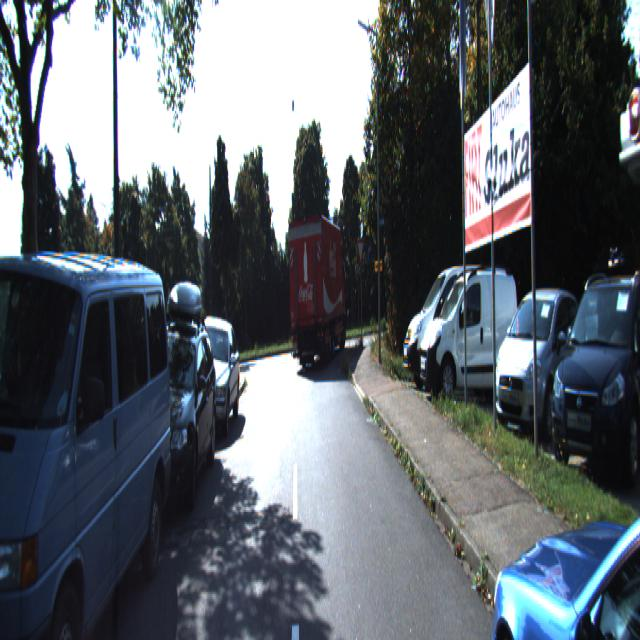Car: (0, 214, 175, 638), (482, 371, 640, 638), (121, 314, 220, 539), (548, 282, 640, 493), (400, 256, 518, 389), (493, 289, 590, 446), (417, 269, 519, 410), (285, 215, 347, 376), (184, 310, 244, 441)
